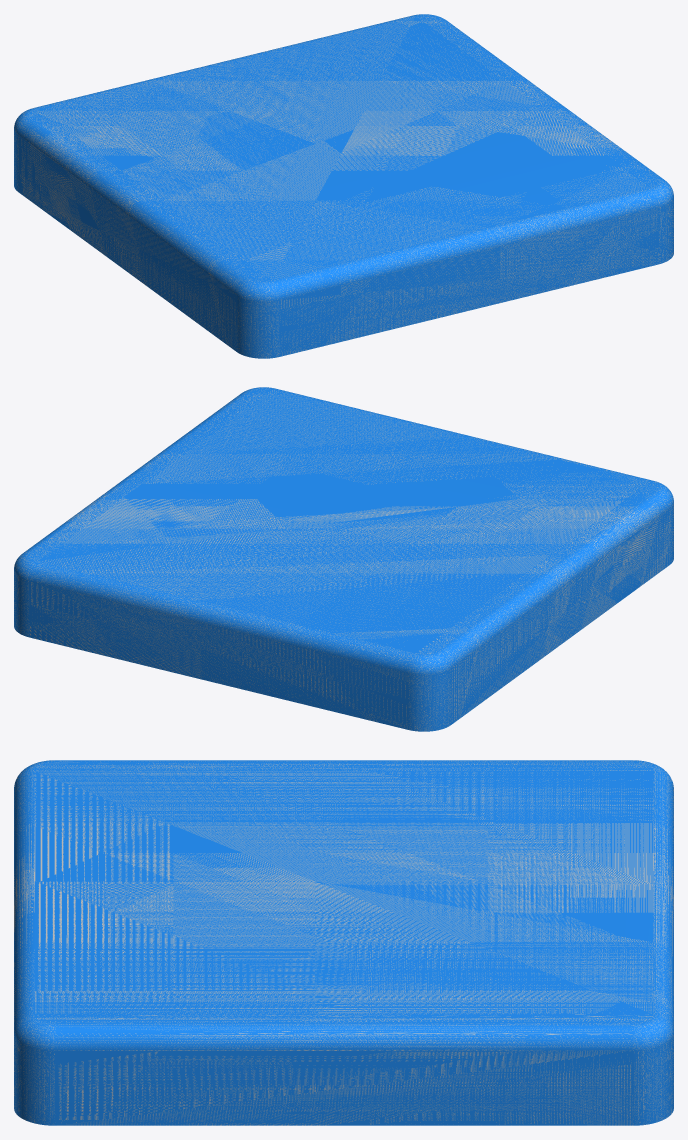
The model's file is original-13.obj.
3 renders of one model, top to bottom at view 1: azimuth 30°, elevation 25°; view 2: azimuth 150°, elevation 25°; view 3: azimuth 270°, elevation 25°, orthographic. The views are drawn at different scales.
Parts seen in each view (by area): view 1: Component_2_6/Component_2/mesh6/mesh6-geometry#mesh6-geometry; view 2: Component_2_6/Component_2/mesh6/mesh6-geometry#mesh6-geometry; view 3: Component_2_6/Component_2/mesh6/mesh6-geometry#mesh6-geometry.
Part boxes in pixels (<box>): Component_2_6/Component_2/mesh6/mesh6-geometry#mesh6-geometry: <box>14,14,673,358</box>; Component_2_6/Component_2/mesh6/mesh6-geometry#mesh6-geometry: <box>14,387,673,731</box>; Component_2_6/Component_2/mesh6/mesh6-geometry#mesh6-geometry: <box>14,760,673,1125</box>.
Bounding box in the file's own units: 0.0633 × 0.00989 × 0.0633.
